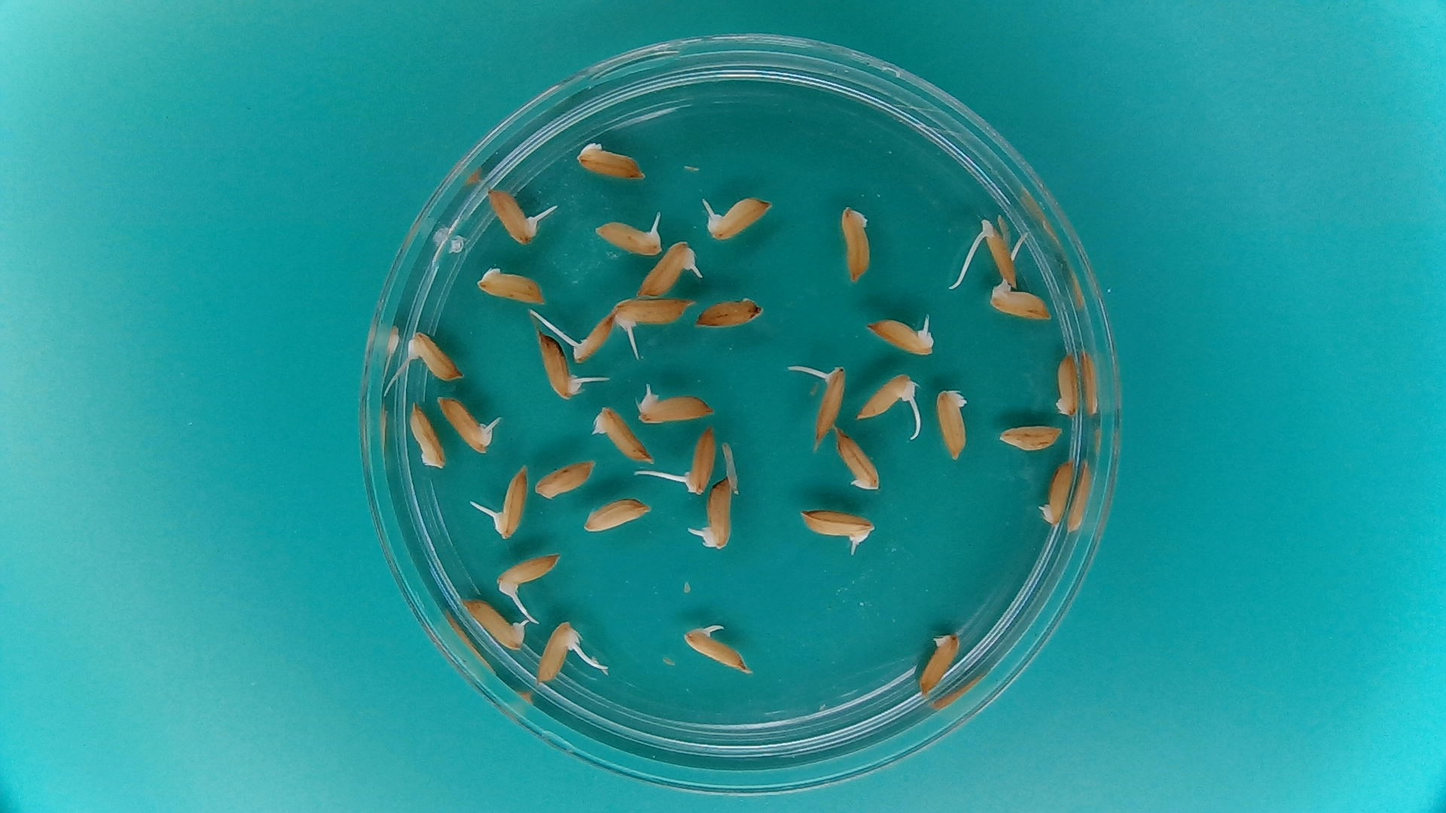no: (590, 402, 657, 464), (831, 423, 883, 495), (914, 628, 965, 699), (473, 261, 548, 306), (837, 201, 876, 287), (933, 383, 974, 464), (573, 138, 650, 181), (406, 396, 449, 471), (1036, 454, 1078, 530), (533, 458, 598, 501), (581, 495, 654, 533), (694, 295, 766, 330), (1050, 347, 1084, 420), (994, 422, 1066, 454)
yes: (693, 469, 740, 550), (680, 626, 755, 676), (438, 391, 496, 455), (797, 507, 875, 553), (636, 242, 697, 299), (464, 599, 530, 651), (855, 370, 917, 423), (706, 193, 770, 243), (609, 293, 694, 330), (484, 190, 539, 244), (534, 620, 578, 687), (493, 549, 560, 593), (867, 315, 937, 357), (813, 365, 849, 446), (405, 330, 459, 384), (633, 388, 709, 425), (493, 464, 531, 537), (590, 219, 660, 257), (979, 220, 1017, 288), (682, 424, 718, 493), (541, 340, 579, 402), (988, 279, 1045, 320), (571, 308, 615, 361)
